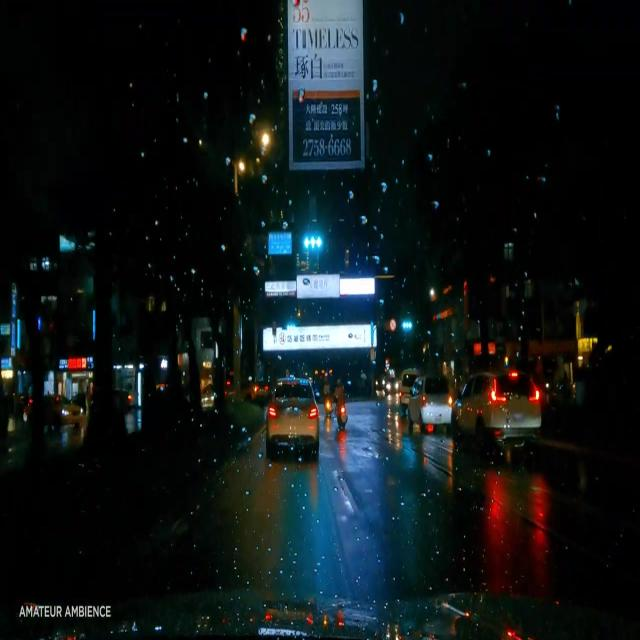Car: (453, 369, 541, 441), (265, 377, 317, 454), (406, 374, 449, 428), (40, 389, 81, 428)
